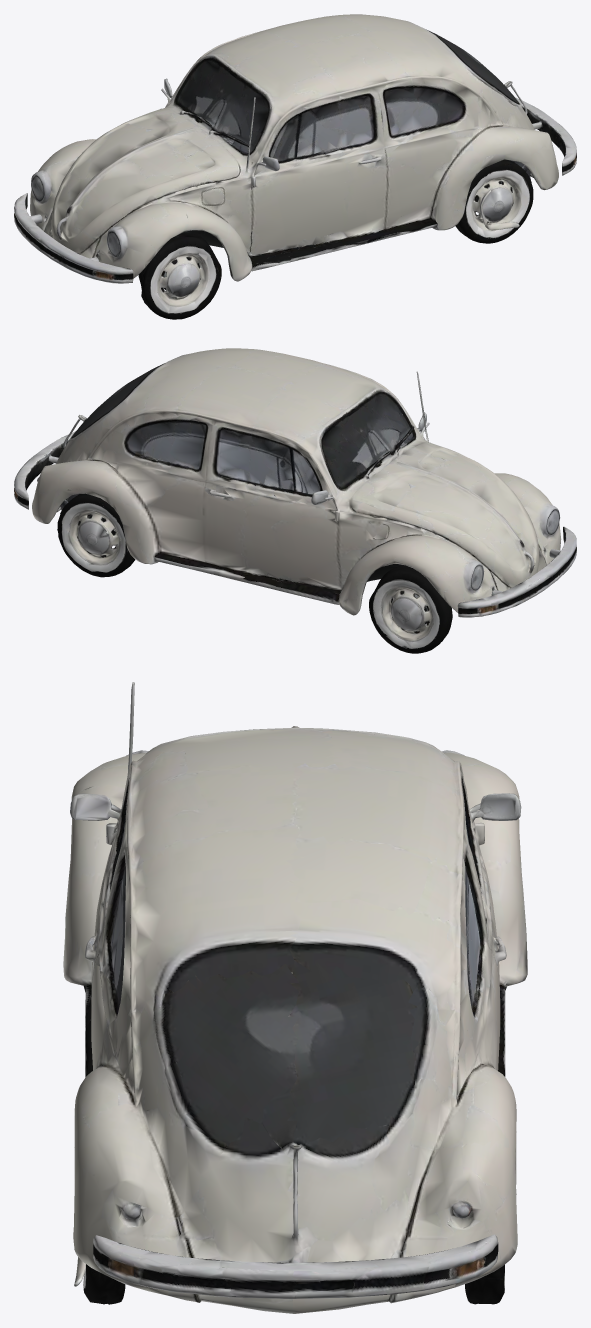
File: ur_changer.glb
The picture shows the model from 3 angles, top to bottom: view 1: azimuth 30°, elevation 25°; view 2: azimuth 150°, elevation 25°; view 3: azimuth 270°, elevation 25°; orthographic projection. The views are drawn at different scales.
Bounding box in the file's own units: 1.9 × 0.6945 × 0.7506.
1 material, 1 textured.
